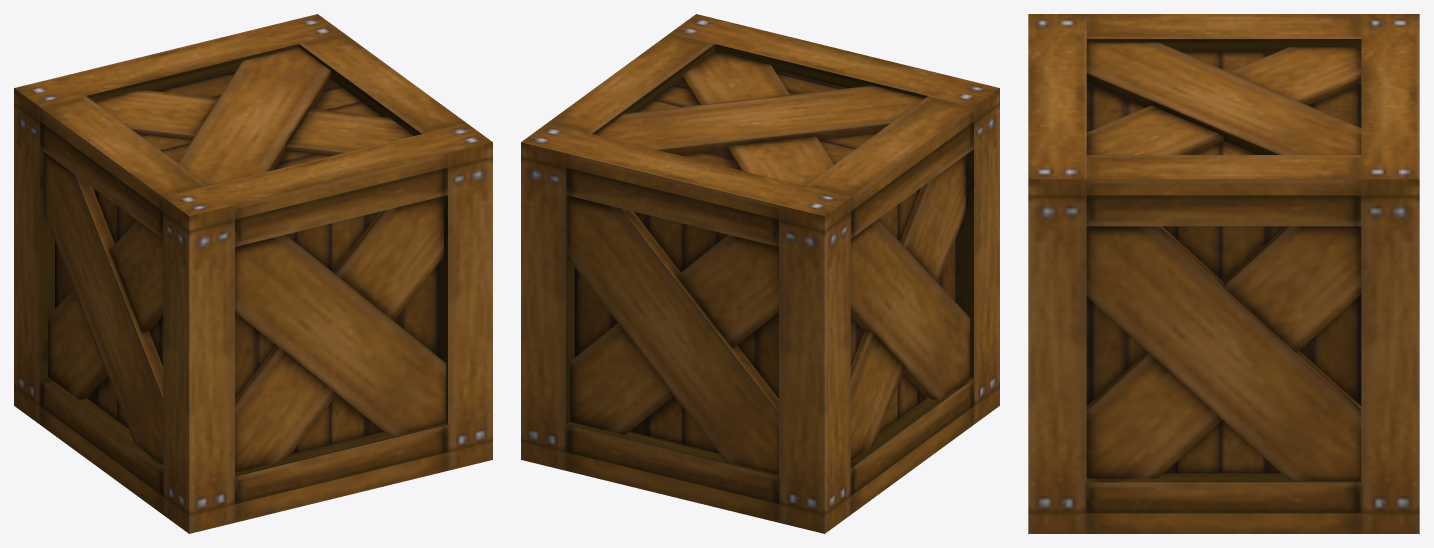
Rendered from Container01.fbx.
The picture shows the model from 3 angles, left to right: view 1: azimuth 30°, elevation 25°; view 2: azimuth 150°, elevation 25°; view 3: azimuth 270°, elevation 25°; orthographic projection. The views are drawn at different scales.
Parts seen in each view (by area): view 1: Container01; view 2: Container01; view 3: Container01.
Part boxes in pixels (x1,y1,x2,y2): Container01: (14,14,492,533); Container01: (521,14,999,533); Container01: (1028,14,1419,533).
Bounding box in the file's own units: 0.9995 × 0.999 × 0.9984.
